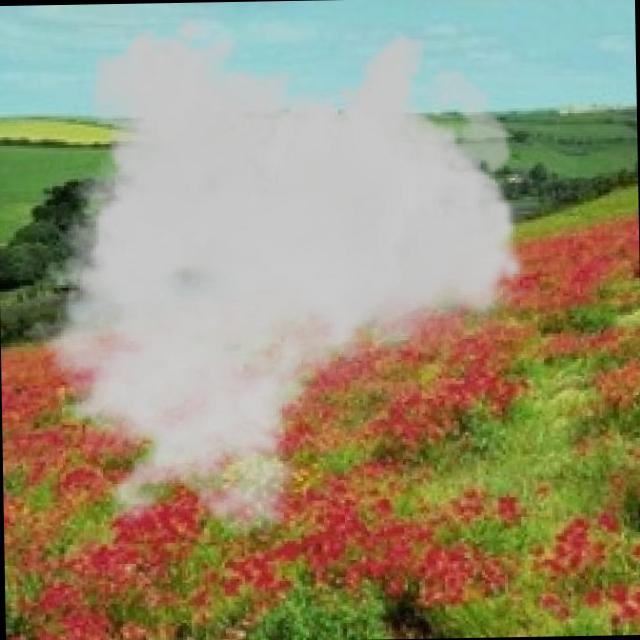Smoke: (0, 8, 532, 542)
